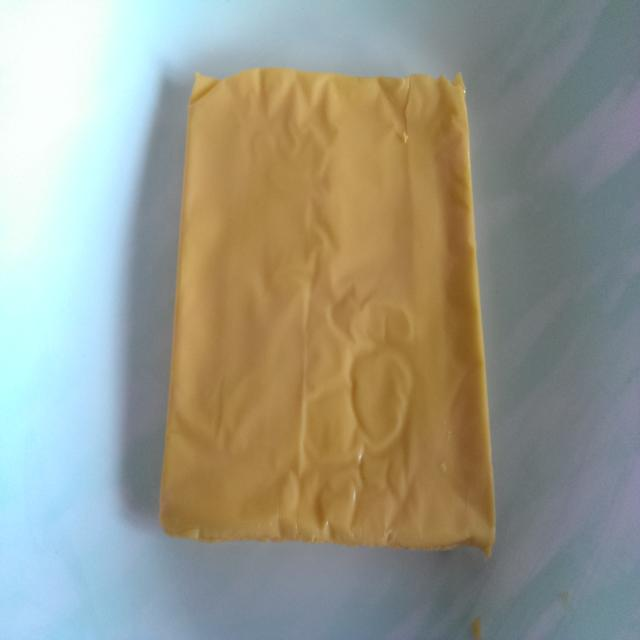cheese: (157, 54, 538, 574)
